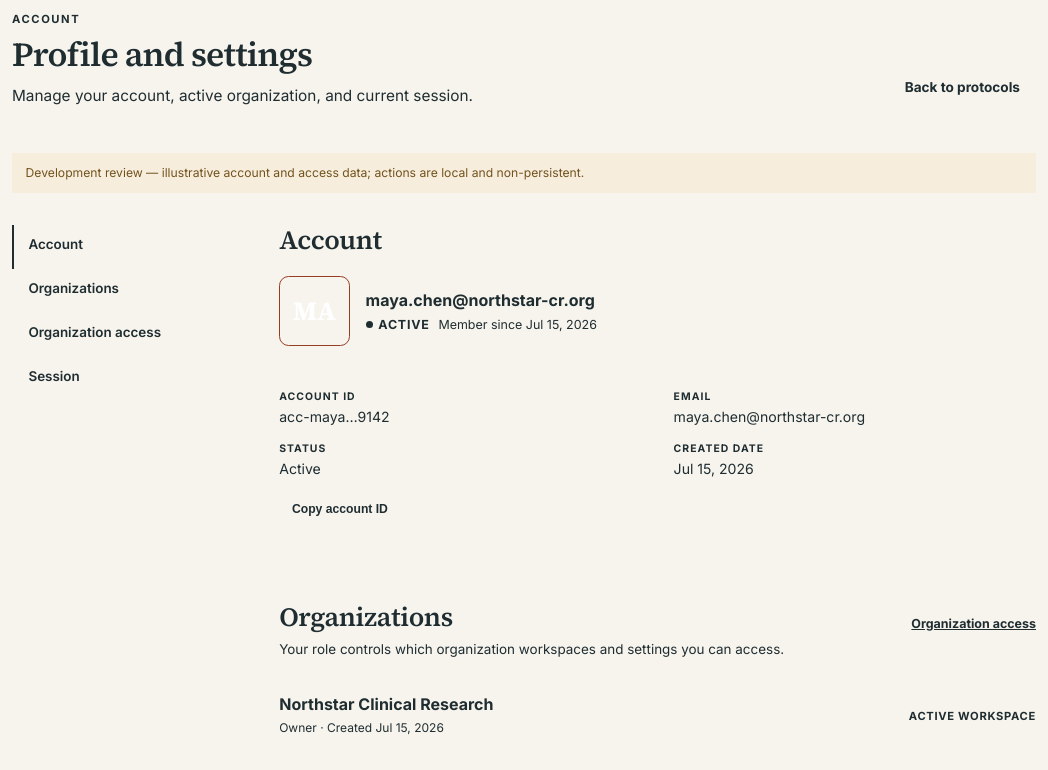
Test case: ProfileSettings › copies the full account ID with polite feedback
Click the button "Copy account ID" at (340, 509), box [279, 493, 401, 525]
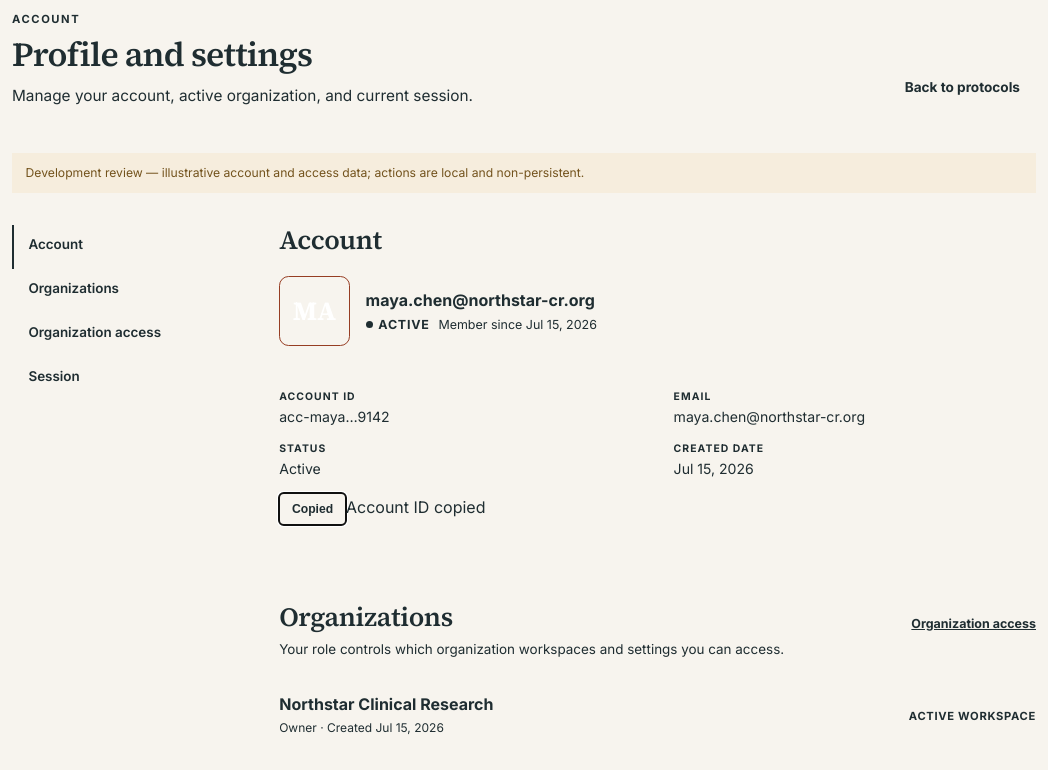
Result: the button "Copied" is shown at [279, 493, 346, 525]
Result: the text "Account ID copied" is shown at [346, 497, 485, 517]
